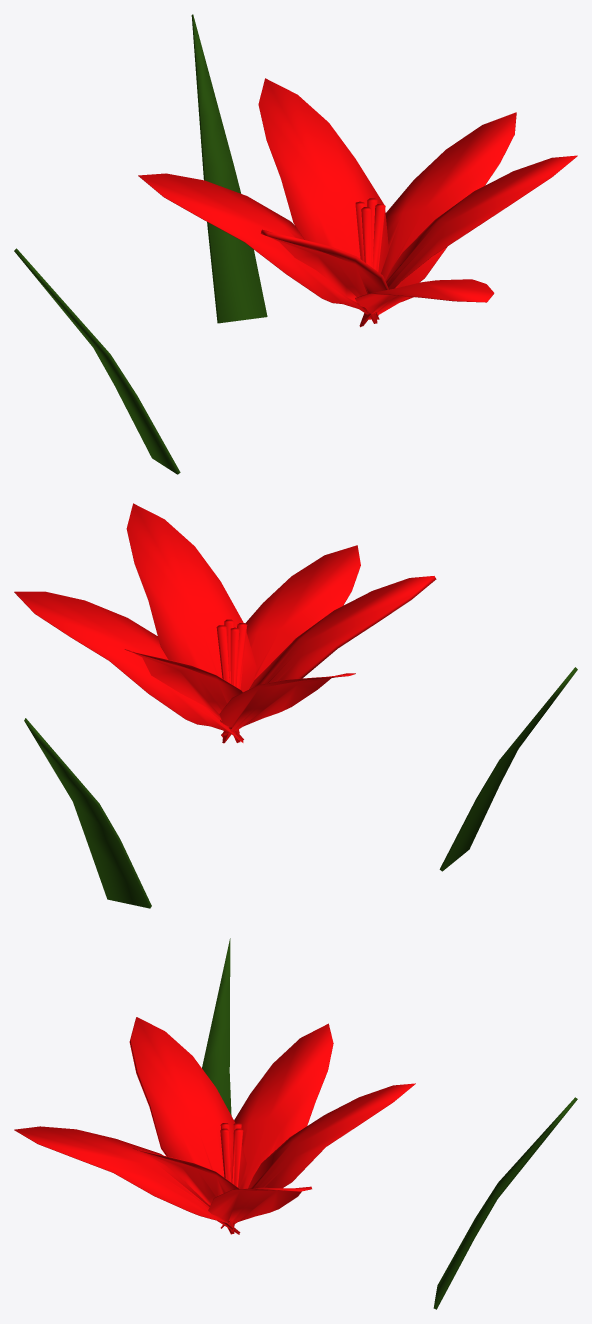
3 views of the same model, one above another, from view 1: azimuth 30°, elevation 25°; view 2: azimuth 150°, elevation 25°; view 3: azimuth 270°, elevation 25° (orthographic). The views are drawn at different scales.
Visible parts, largest first — view 1: 846e922a; view 2: 846e922a; view 3: 846e922a.
Boxes of the visible parts, left/top/right/bottom form: 846e922a: left=14, top=14, right=577, bottom=474; 846e922a: left=14, top=503, right=577, bottom=908; 846e922a: left=14, top=938, right=577, bottom=1309.
Bounding box in the file's own units: 0.132 × 0.0583 × 0.1348.
2 materials, 1 textured.
